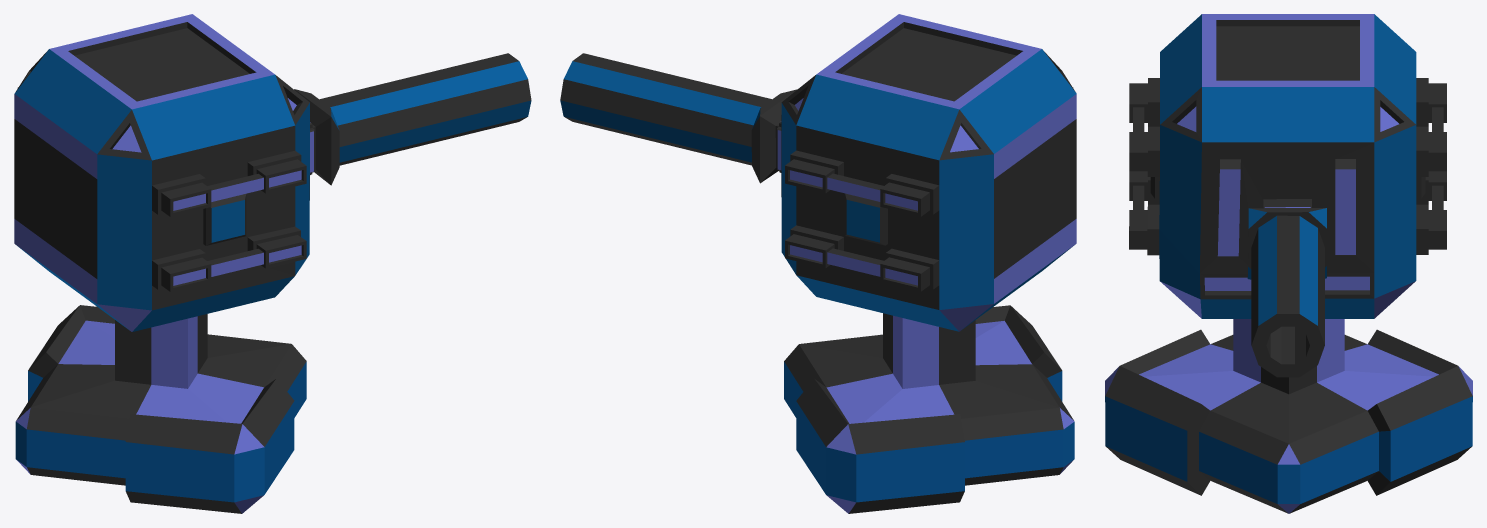
The model's file is torreta.fbx.
3 views of the same model, side by side, from view 1: azimuth 30°, elevation 25°; view 2: azimuth 150°, elevation 25°; view 3: azimuth 270°, elevation 25° (orthographic). The views are drawn at different scales.
Visible parts, largest first — view 1: parte_arriba, parte_abajo; view 2: parte_arriba, parte_abajo; view 3: parte_arriba, parte_abajo.
Boxes of the visible parts, x1,y1,x2,y2 form: parte_arriba: (14, 14, 531, 331); parte_abajo: (15, 305, 306, 513); parte_arriba: (560, 14, 1076, 331); parte_abajo: (784, 305, 1074, 513); parte_arriba: (1129, 14, 1446, 377); parte_abajo: (1105, 319, 1472, 513).
Size of the model in its own units: 463 by 353 by 287.
